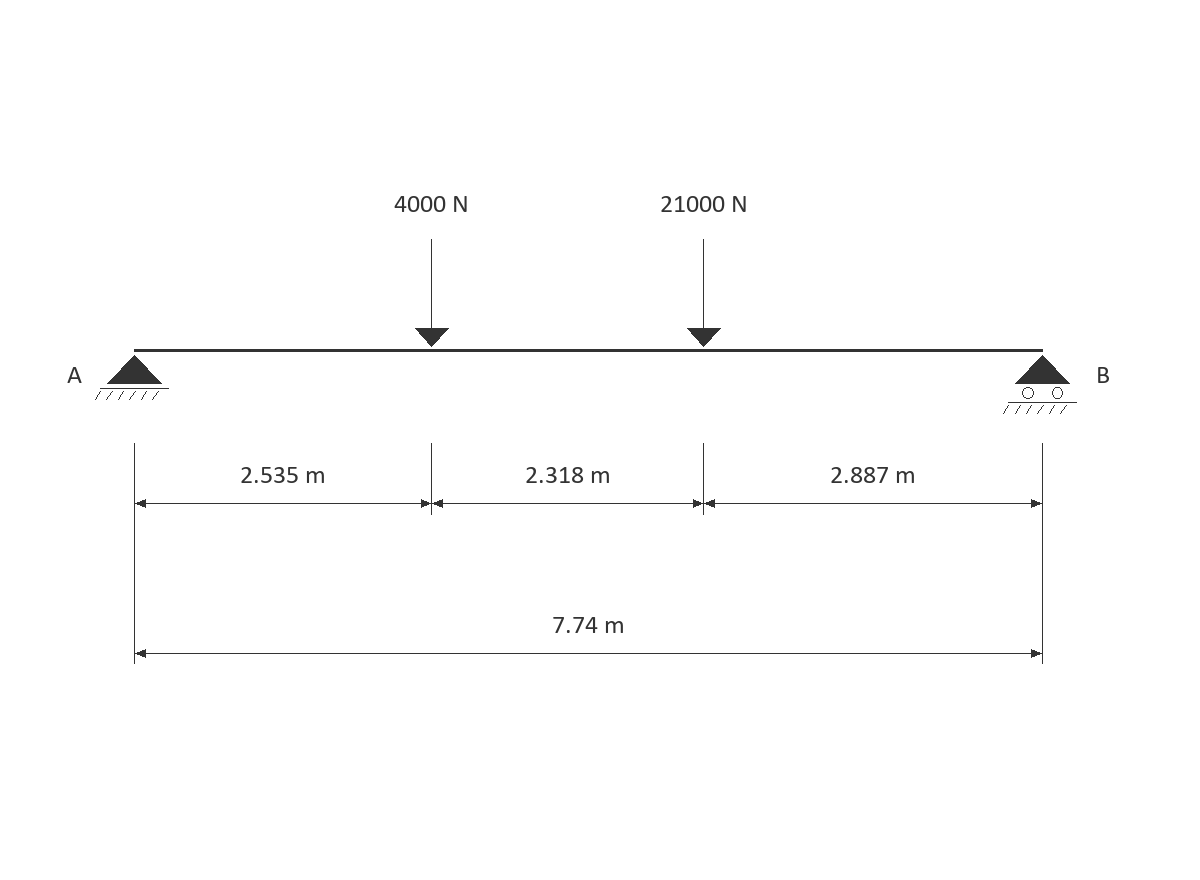pin_support: (95, 355, 169, 400)
point_load: (415, 239, 449, 347), (687, 239, 721, 347)
roller_support: (1003, 355, 1077, 414)
